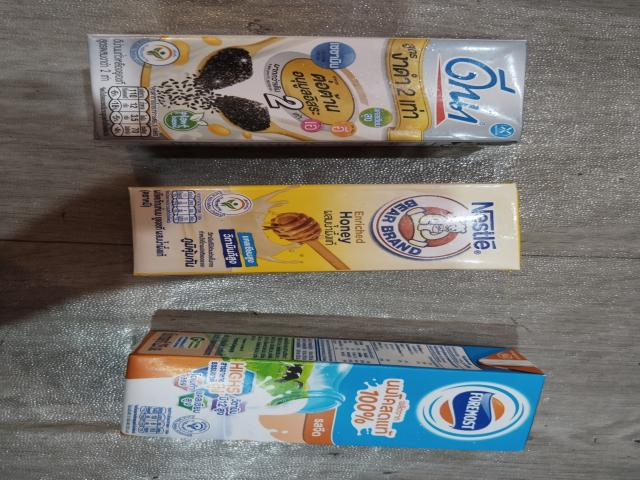drink_box: (78, 30, 532, 152), (124, 333, 548, 452), (111, 180, 547, 282)
